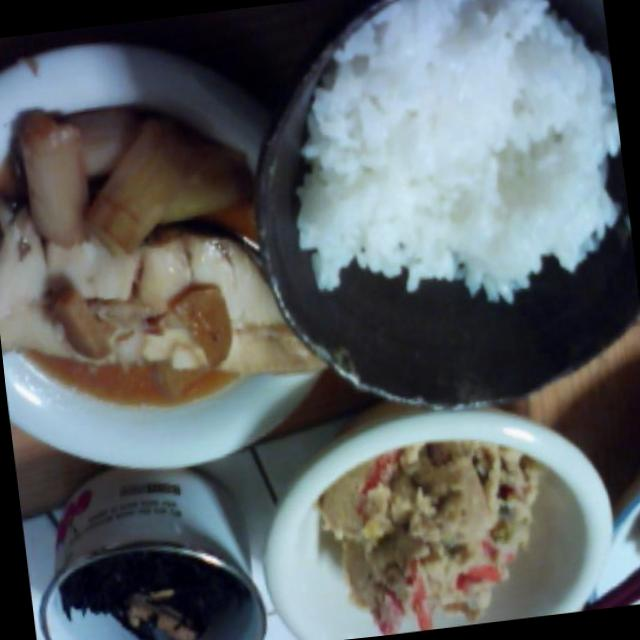Rice: (298, 0, 626, 322)
